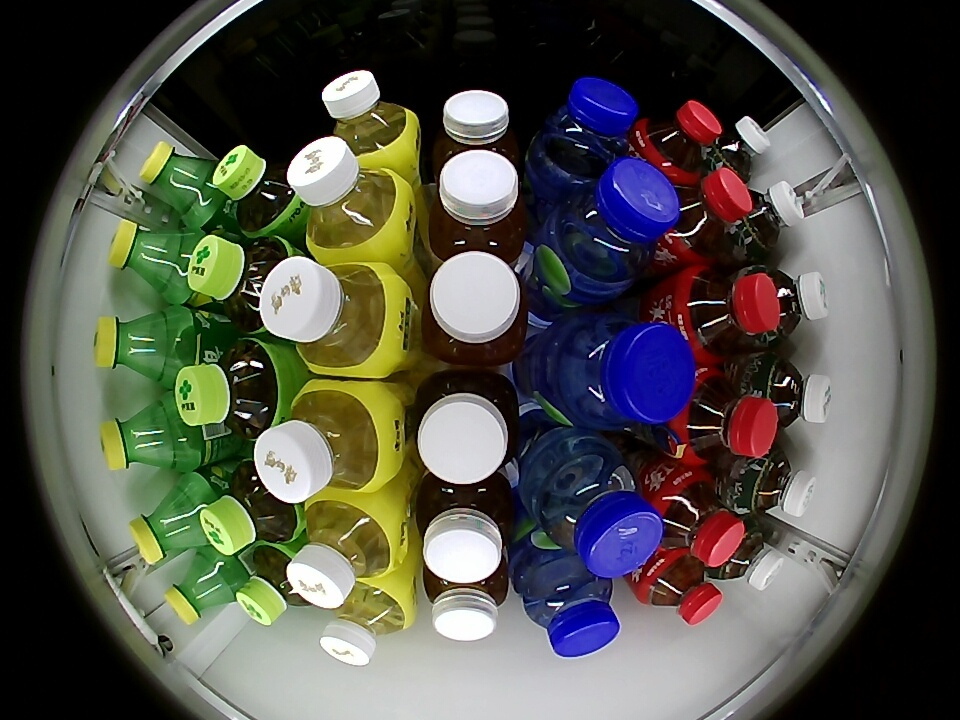binghongcha: (674, 265, 781, 364), (670, 368, 777, 463), (650, 464, 745, 567), (661, 168, 752, 264), (634, 100, 722, 184), (639, 548, 722, 626)
bingtangxueli: (255, 379, 400, 502), (262, 257, 406, 378), (287, 137, 412, 261), (287, 494, 404, 608), (322, 70, 420, 166), (321, 578, 415, 666)
chapai: (412, 369, 519, 485), (424, 149, 529, 267), (422, 252, 529, 367), (415, 472, 515, 584), (434, 90, 519, 171), (423, 561, 509, 641)
maidong: (547, 157, 679, 291), (533, 448, 663, 577), (550, 314, 695, 428), (531, 76, 640, 185), (519, 553, 621, 658)
moliqingcha: (734, 449, 817, 518), (757, 355, 832, 430), (758, 265, 829, 343), (735, 181, 805, 256), (715, 520, 783, 591), (708, 116, 770, 182)
xuebi-b: (138, 140, 219, 224), (129, 481, 209, 565), (109, 219, 186, 299), (94, 311, 175, 383), (101, 403, 178, 472), (166, 551, 238, 624)
yitengyuan: (174, 338, 284, 440), (188, 233, 295, 334), (201, 460, 301, 556), (212, 145, 304, 236), (236, 544, 312, 626)
